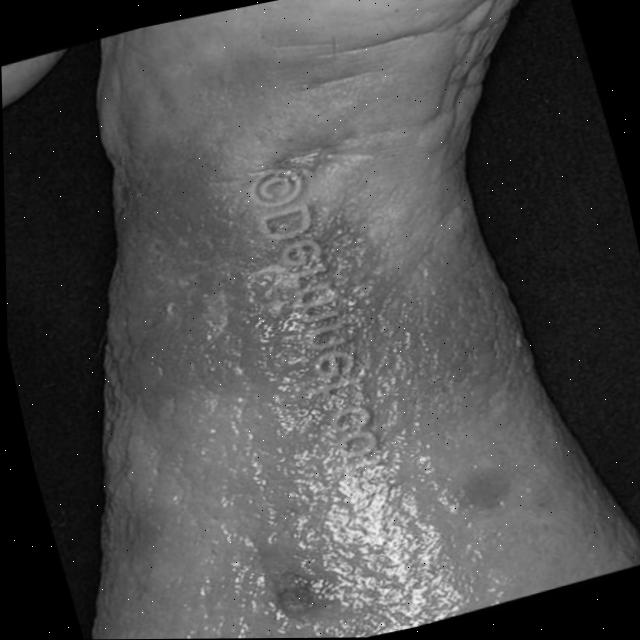Eczema: (52, 83, 589, 640)
